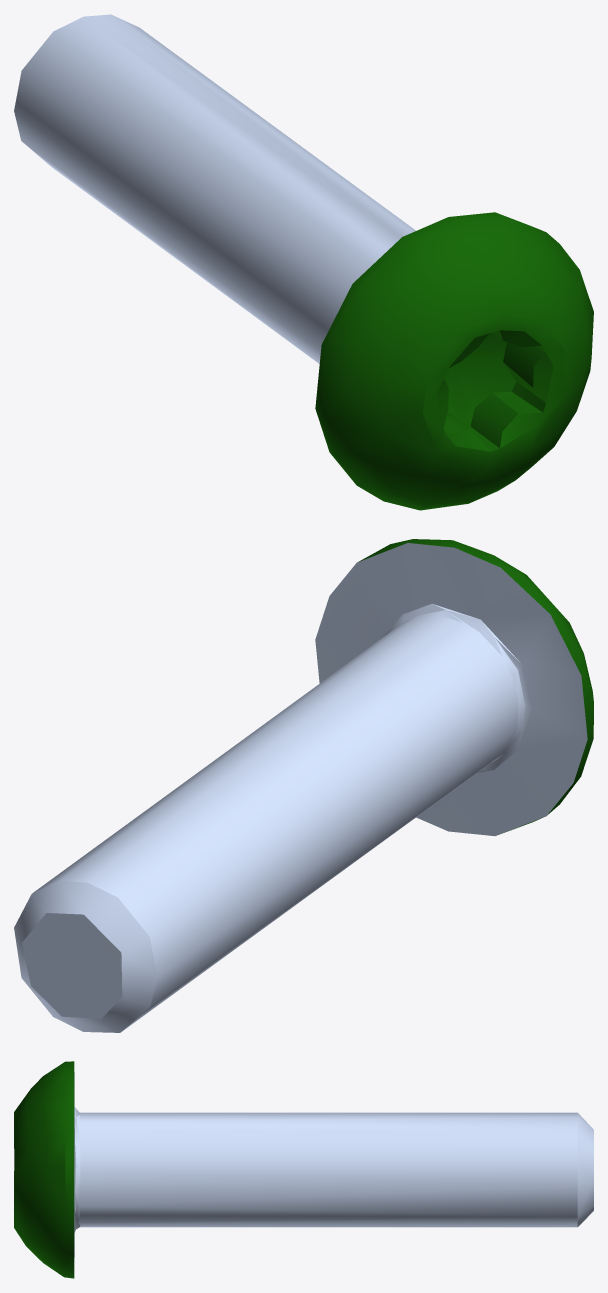
The model's file is Colored__8-32_x_3_4_Star_Drive_Screw__276-4994__001.glb.
3 renders of one model, top to bottom at view 1: azimuth 30°, elevation 25°; view 2: azimuth 150°, elevation 25°; view 3: azimuth 270°, elevation 25°, orthographic. The views are drawn at different scales.
Visible parts, largest first — view 1: Colored #8-32 x 3_4 Star Drive Screw (276-4994).001; view 2: Colored #8-32 x 3_4 Star Drive Screw (276-4994).001; view 3: Colored #8-32 x 3_4 Star Drive Screw (276-4994).001.
Boxes of the visible parts, bbox=[...] form: Colored #8-32 x 3_4 Star Drive Screw (276-4994).001: bbox=[14, 14, 593, 510]; Colored #8-32 x 3_4 Star Drive Screw (276-4994).001: bbox=[14, 539, 593, 1032]; Colored #8-32 x 3_4 Star Drive Screw (276-4994).001: bbox=[14, 1061, 593, 1278].
Bounding box in the file's own units: 0.3123 × 0.3131 × 0.8373.
